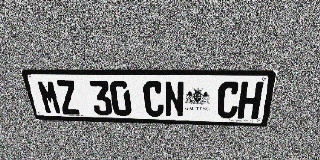0: (109, 81, 132, 116)
3: (89, 80, 113, 116)
C: (216, 81, 241, 119), (143, 81, 164, 117)
H: (237, 82, 264, 119)
M: (36, 80, 63, 114)
N: (164, 81, 184, 117)
Z: (55, 80, 81, 115)
